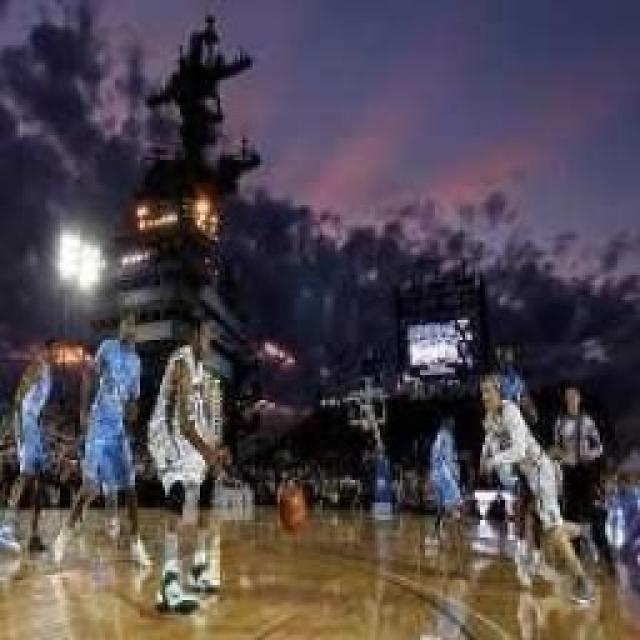rim: (270, 474, 312, 538)
